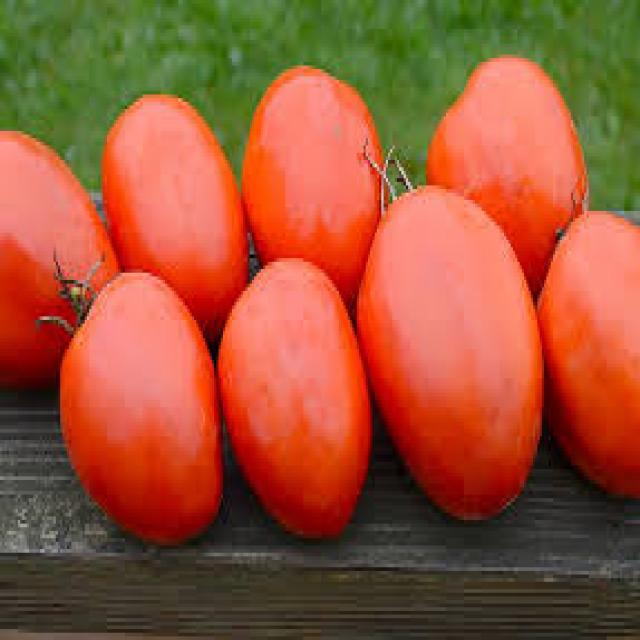Fresh_tomato: (368, 169, 543, 523), (53, 283, 233, 549), (219, 262, 368, 536), (0, 118, 109, 402), (107, 87, 250, 300), (256, 53, 384, 283), (432, 64, 581, 256)
